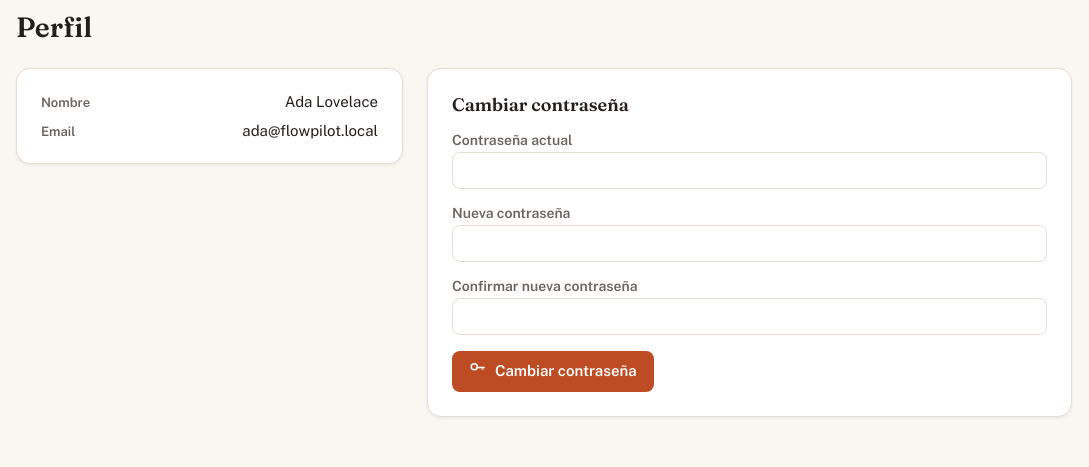
it: ProfileComponent › shows the server error banner when the current password is wrong
In the password field with test id "profile-current-password": {"x": 750, "y": 170} [452, 152, 1047, 189], type "oldSecret1"
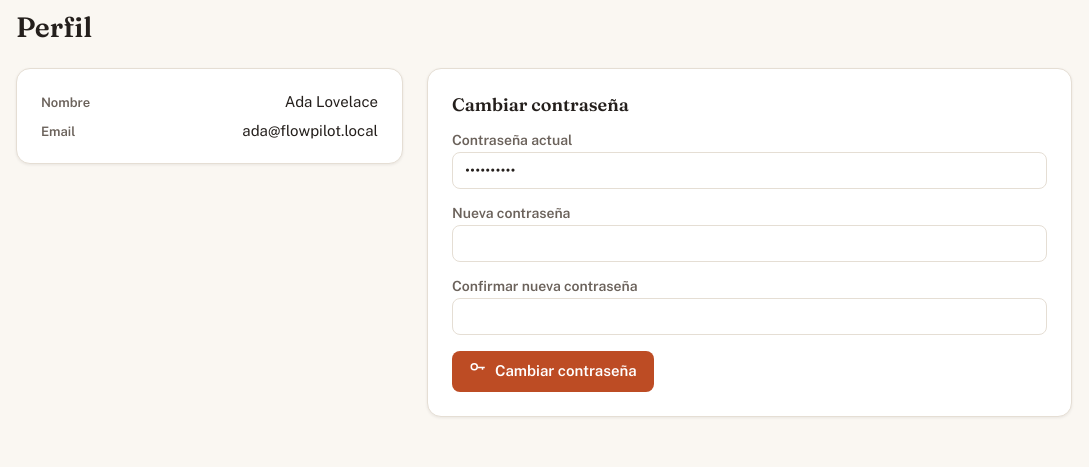
In the password field with test id "profile-new-password": {"x": 750, "y": 244} [452, 225, 1047, 262], type "newSecret1"
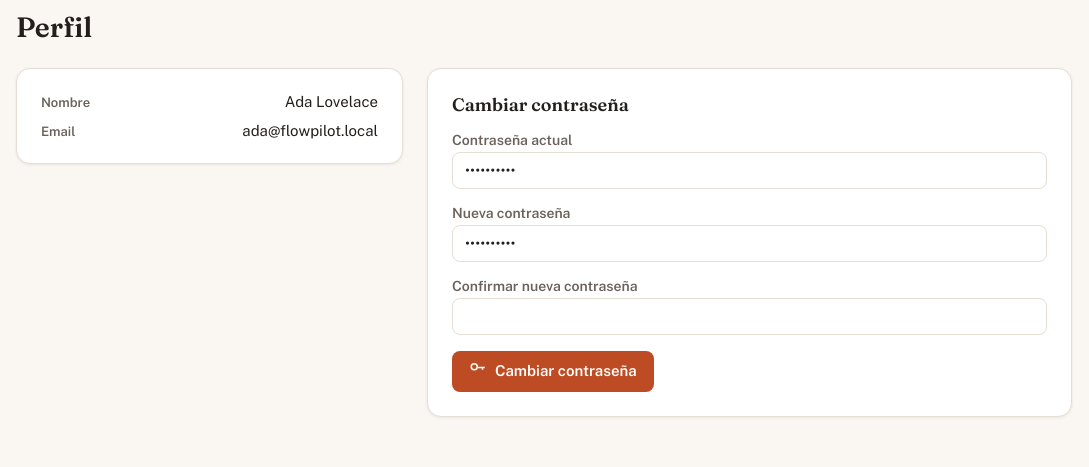
In the password field with test id "profile-confirm-password": {"x": 750, "y": 316} [452, 298, 1047, 335], type "newSecret1"
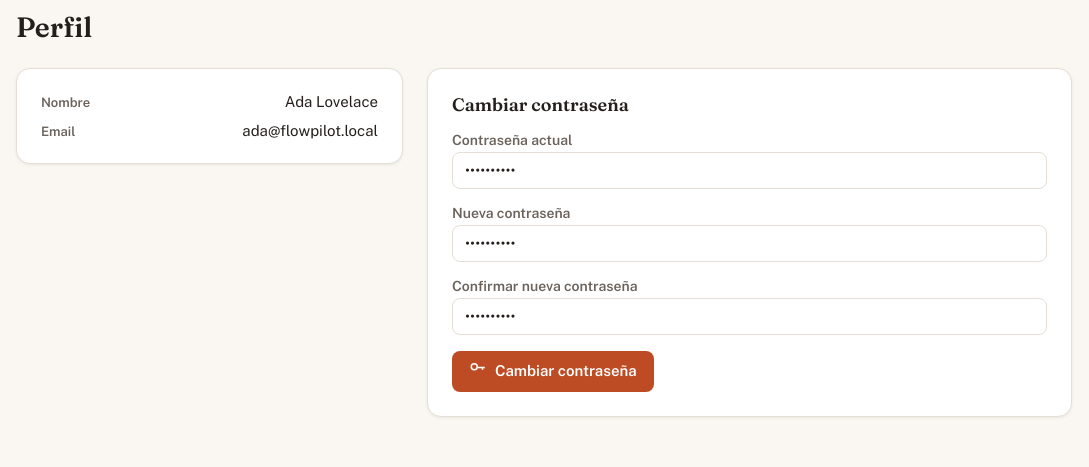
Submit the form, box [452, 93, 1047, 392]
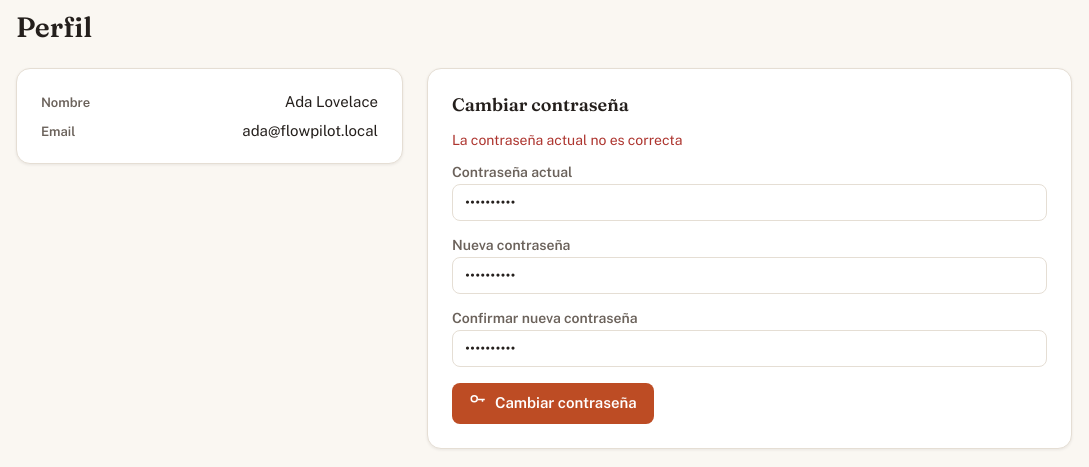
Expected: the message with test id "profile-password-error" reads "La contraseña actual no es correcta", [452, 132, 682, 148]
